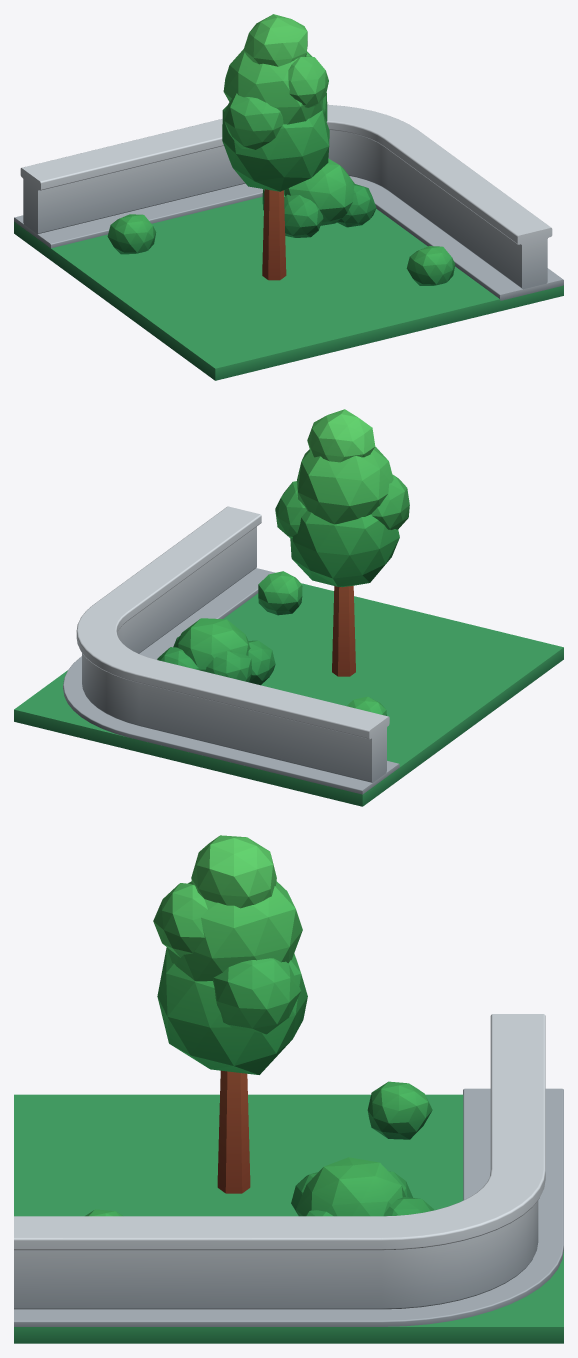
Rendered from muro_esquina_arbol.glb.
3 views of the same model, one above another, from view 1: azimuth 30°, elevation 25°; view 2: azimuth 150°, elevation 25°; view 3: azimuth 270°, elevation 25° (orthographic). The views are drawn at different scales.
Visible parts, largest first — view 1: muro_esquina_arbol; view 2: muro_esquina_arbol; view 3: muro_esquina_arbol.
Part boxes in pixels (box(x1,y1,x2,y2)): muro_esquina_arbol: box(14, 14, 563, 380); muro_esquina_arbol: box(14, 409, 563, 806); muro_esquina_arbol: box(14, 835, 563, 1343).
Bounding box in the file's own units: 6 × 4.43 × 6.
1 material, 1 textured.
